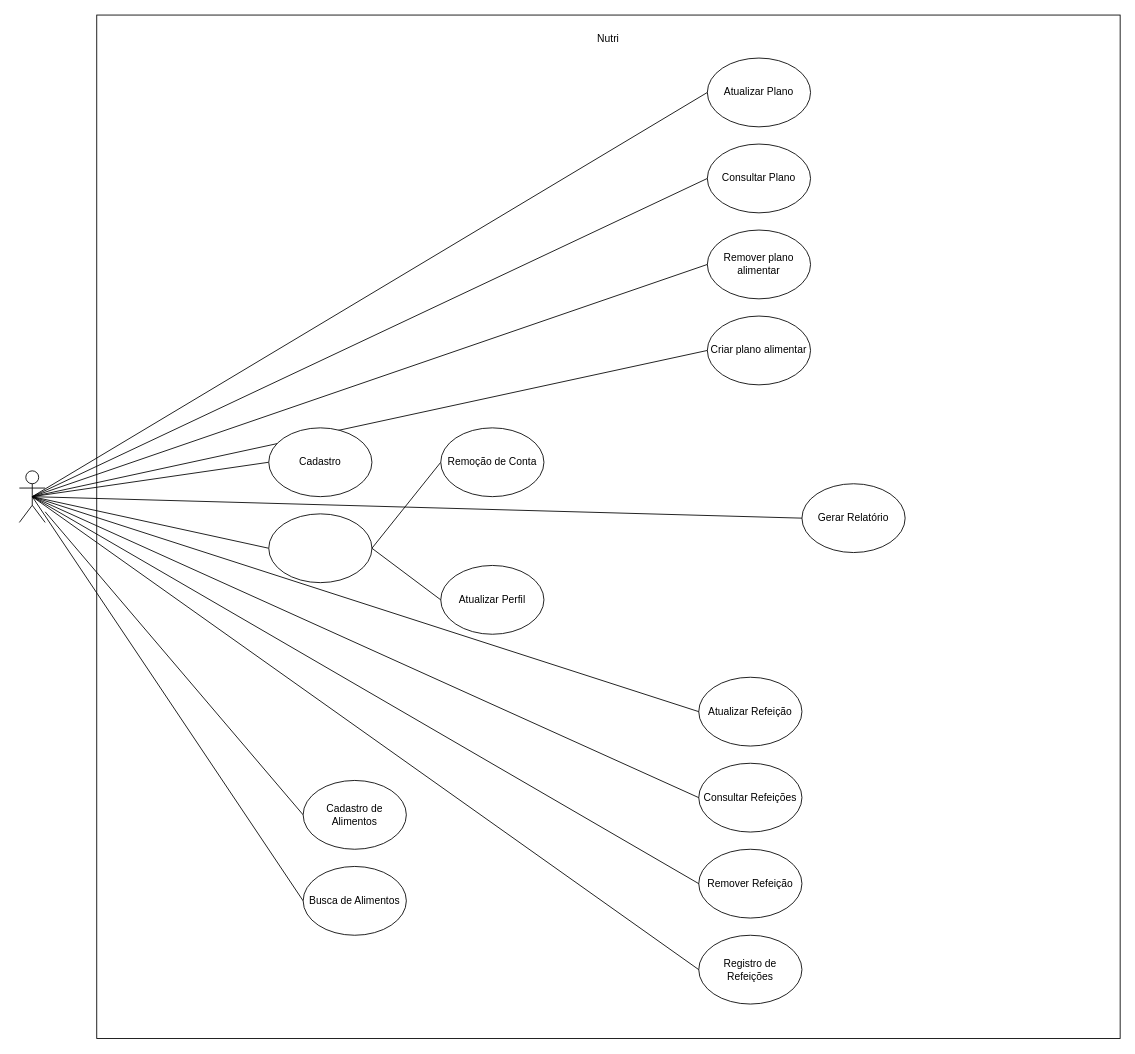
Some shapes in this 1135 by 1054 pixel diagram are drawn without their labels. Here are the shapes that lost their labels. From the top down, the centre of each, then its label:
the point at 31,496: Usuário
the point at 320,548: Login
